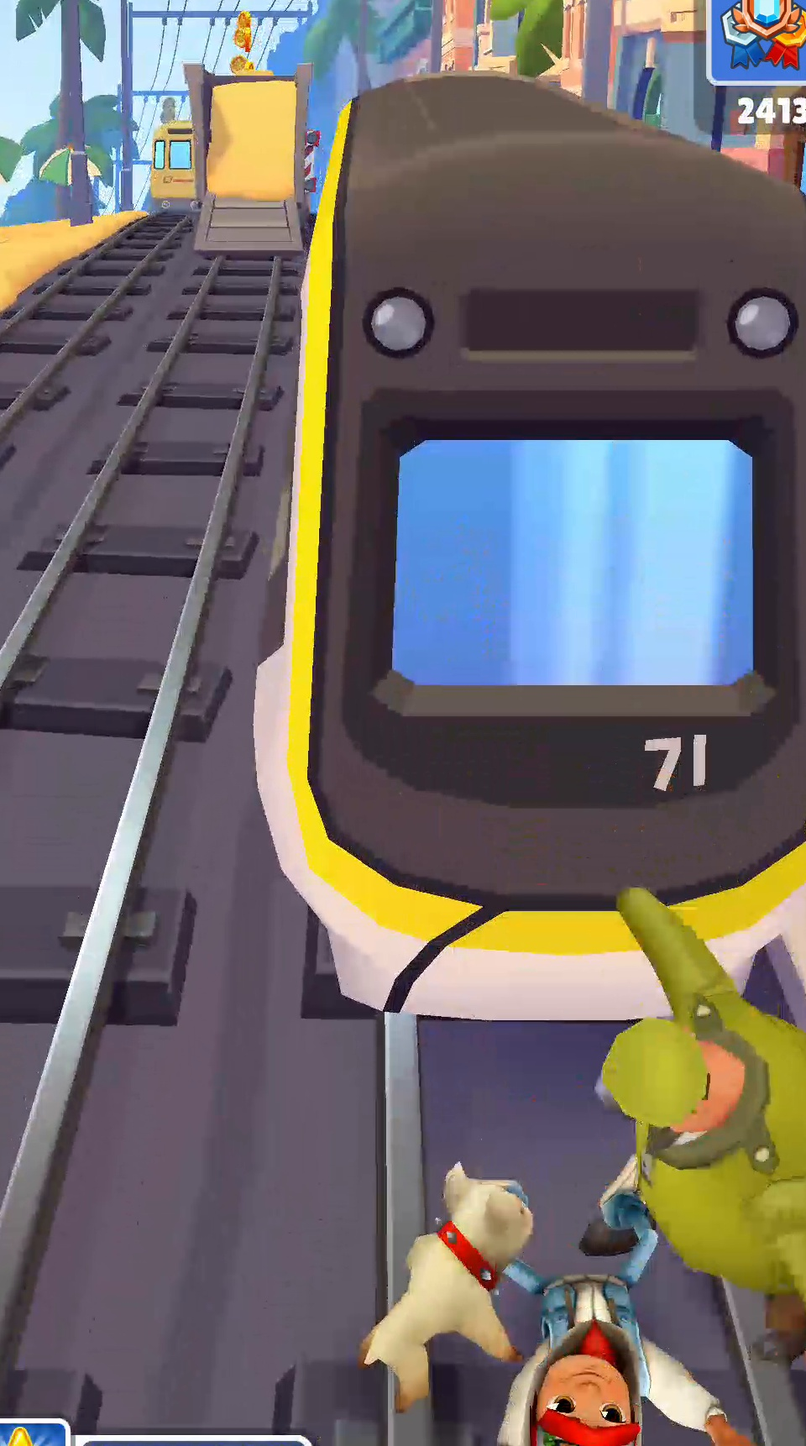climber: (186, 64, 315, 256)
police: (600, 888, 805, 1360)
train: (254, 72, 805, 1020), (150, 121, 197, 212)
